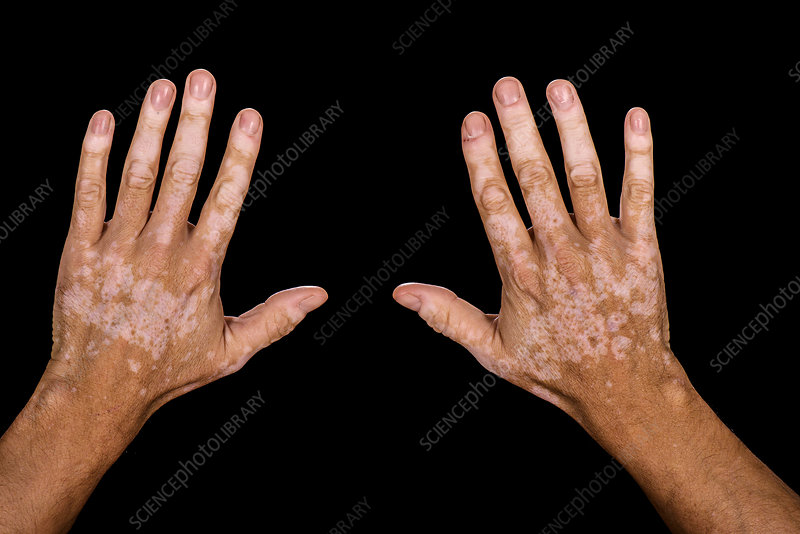vitiligo: (65, 89, 290, 346), (456, 106, 661, 348)
